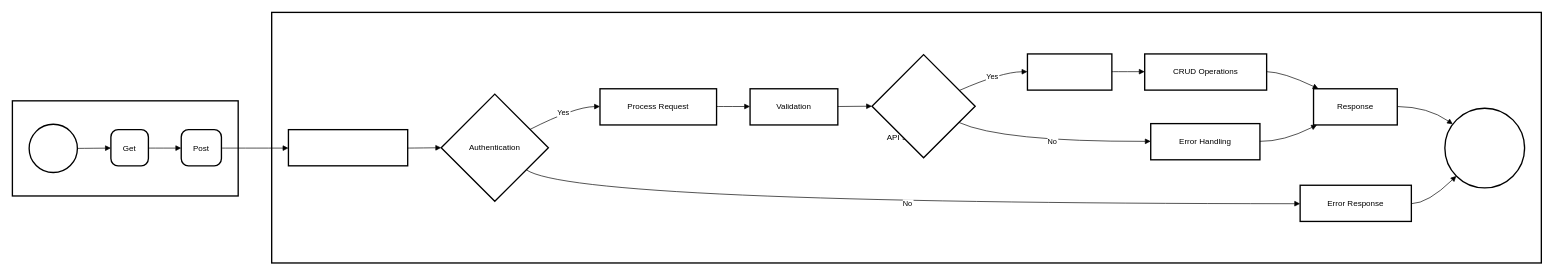
This 1553x275 diagram has some shape labels left out. The shapes that lost their labels are listed below. From the top down, each one's centre as x and y in pixels, then its label:
At (1069,71): "Database".
At (923,106): "Data Handling".
At (53,148): "Request".
At (347,147): "Request Handler".
At (1484,147): "Send Response".
